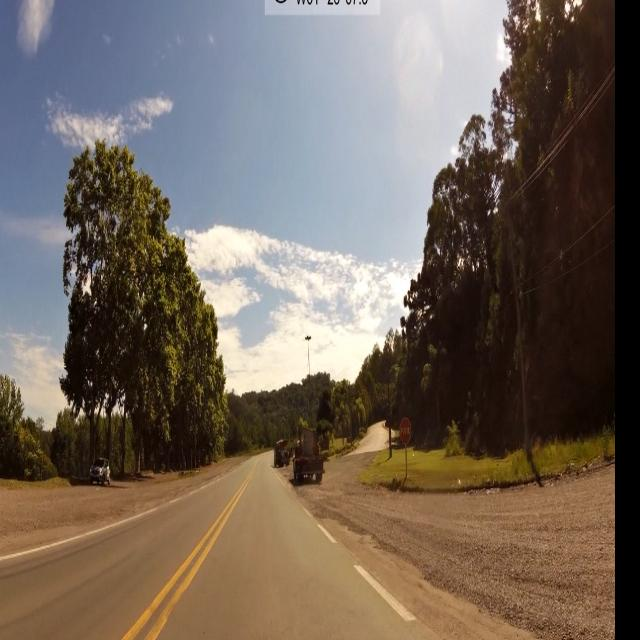R-1: (400, 416, 412, 448)
